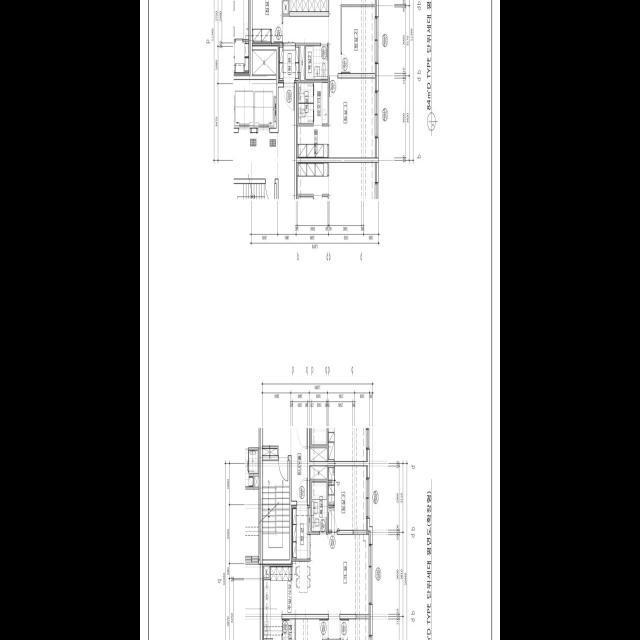background: (140, 0, 500, 640)
space_bedroom: (329, 78, 376, 157), (328, 465, 368, 530), (342, 7, 376, 73), (252, 0, 282, 42), (296, 619, 328, 640), (341, 618, 370, 640)
space_dressroom: (298, 126, 328, 157)
space_elevator: (254, 79, 276, 127), (234, 79, 254, 127)
space_elevator_hall: (234, 87, 295, 199), (262, 428, 308, 501)
space_front: (291, 505, 309, 559), (279, 45, 299, 82)
space_kitchen: (262, 560, 310, 640)
space_living_room: (283, 0, 376, 73), (310, 531, 370, 639)
space_other: (252, 50, 276, 75), (314, 82, 328, 123), (310, 466, 327, 479), (300, 45, 304, 80), (262, 448, 277, 455), (283, 0, 288, 13)
space_outdoor_room: (283, 619, 295, 640)
space_staircase: (262, 460, 289, 559), (234, 183, 276, 200)
space_toilet: (305, 45, 328, 80), (312, 482, 327, 531), (298, 83, 313, 123)
